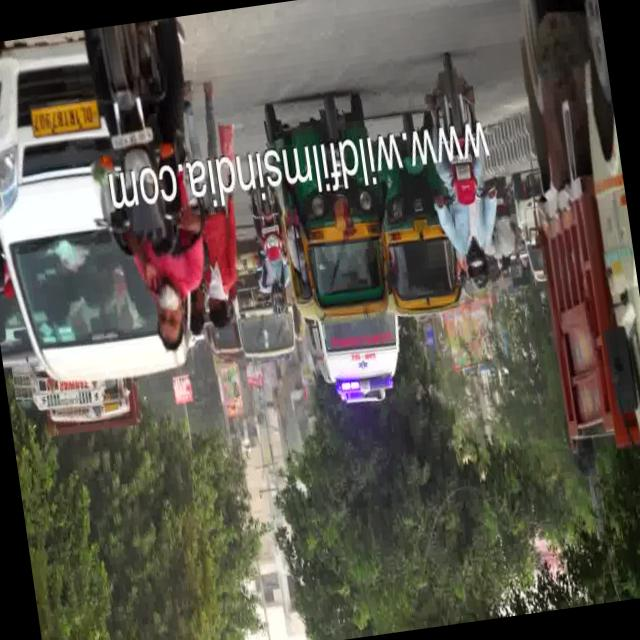ambulance: (304, 306, 406, 416)
